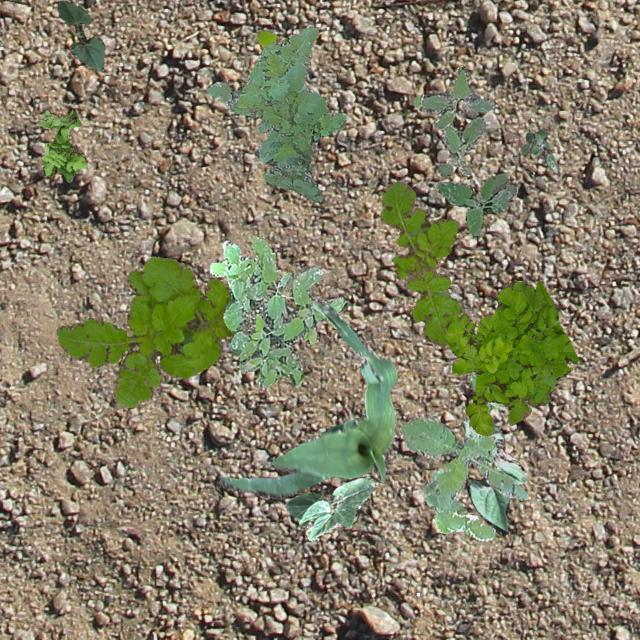crop: (218, 298, 396, 498), (460, 414, 524, 534), (284, 476, 374, 540), (56, 0, 104, 70)
weed: (55, 256, 242, 406), (207, 23, 346, 200), (442, 280, 578, 434), (208, 236, 346, 386), (399, 414, 526, 540), (380, 180, 462, 344), (412, 66, 493, 174), (436, 172, 516, 238), (38, 108, 86, 182), (520, 128, 556, 170), (470, 370, 502, 412), (256, 30, 276, 46)
